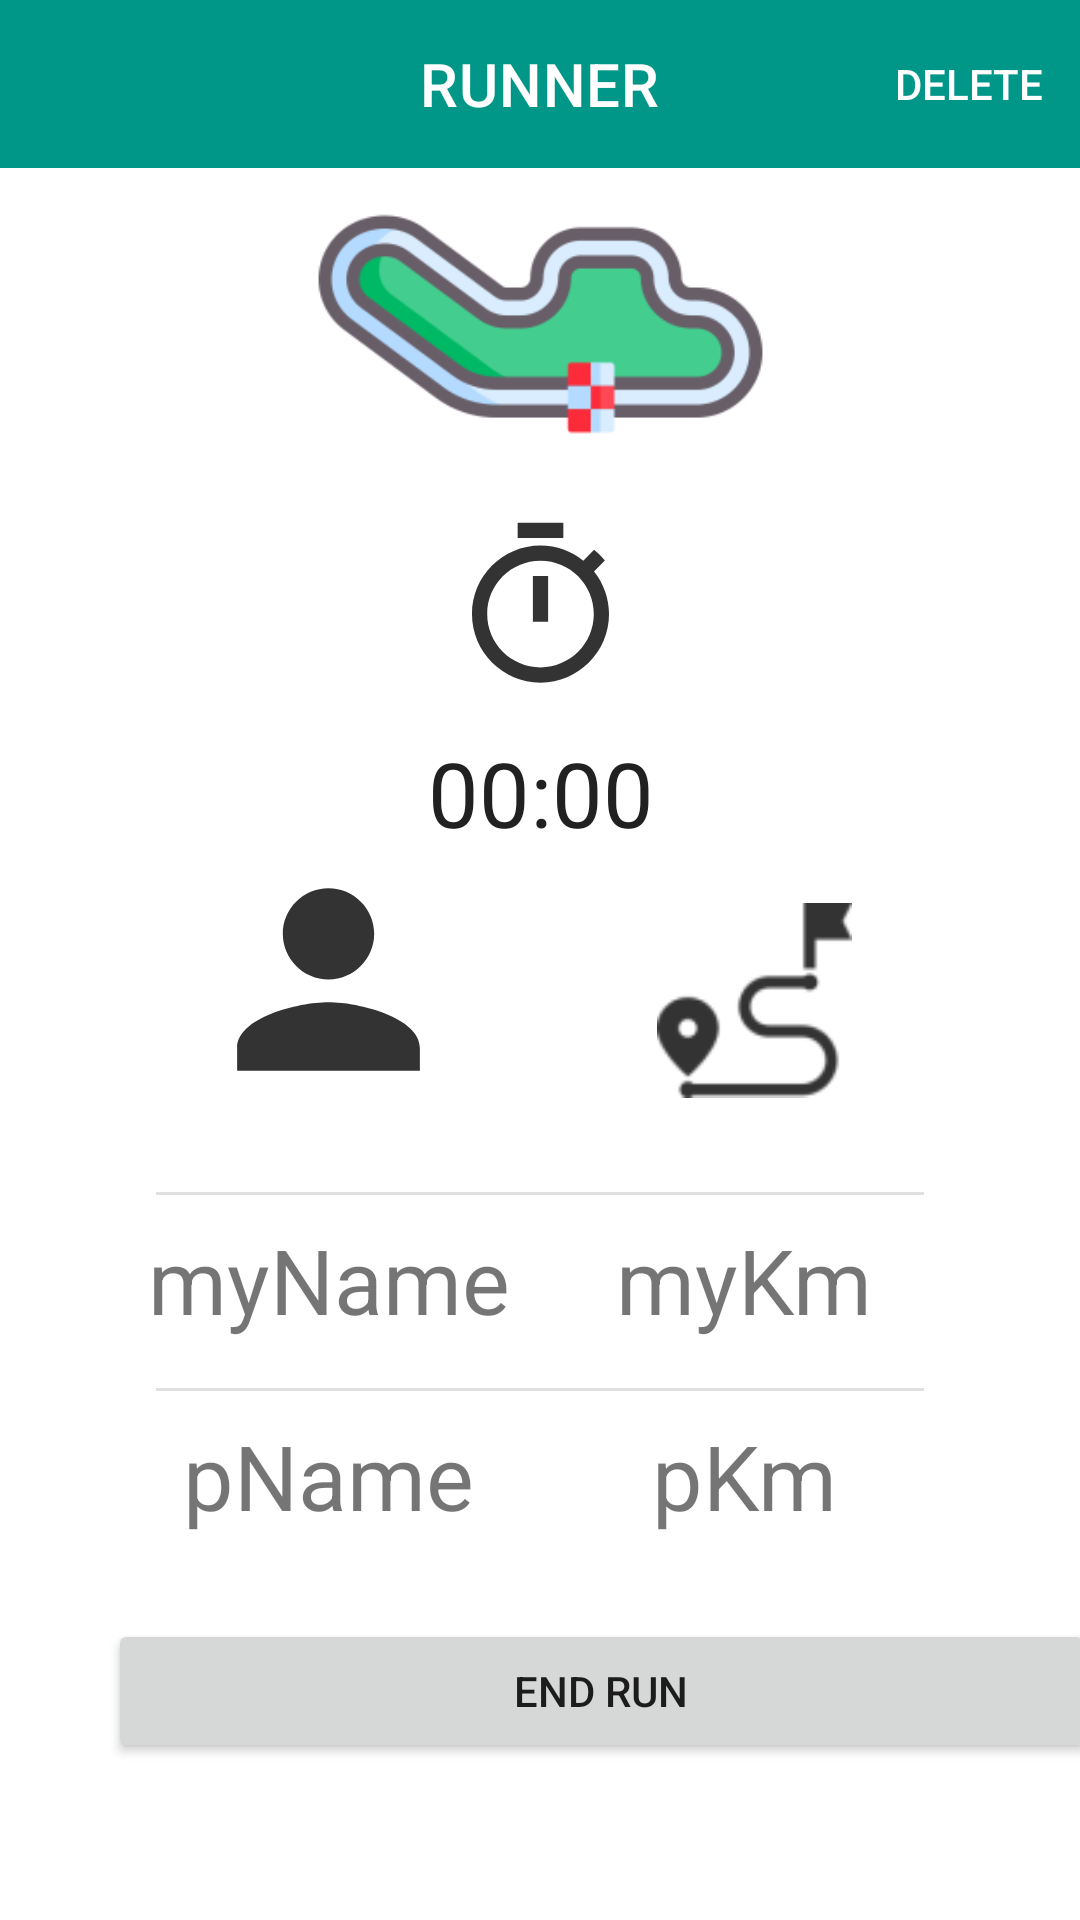

Icon click points for this 1080 × 1920 phone screenshot, format (x,y):
human: (328,979)
road: (754,1000)
timer: (540,602)
